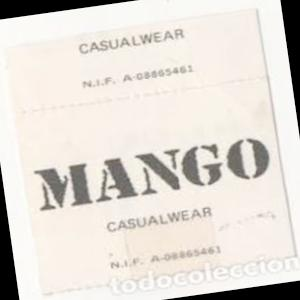mango: (27, 131, 278, 216)
